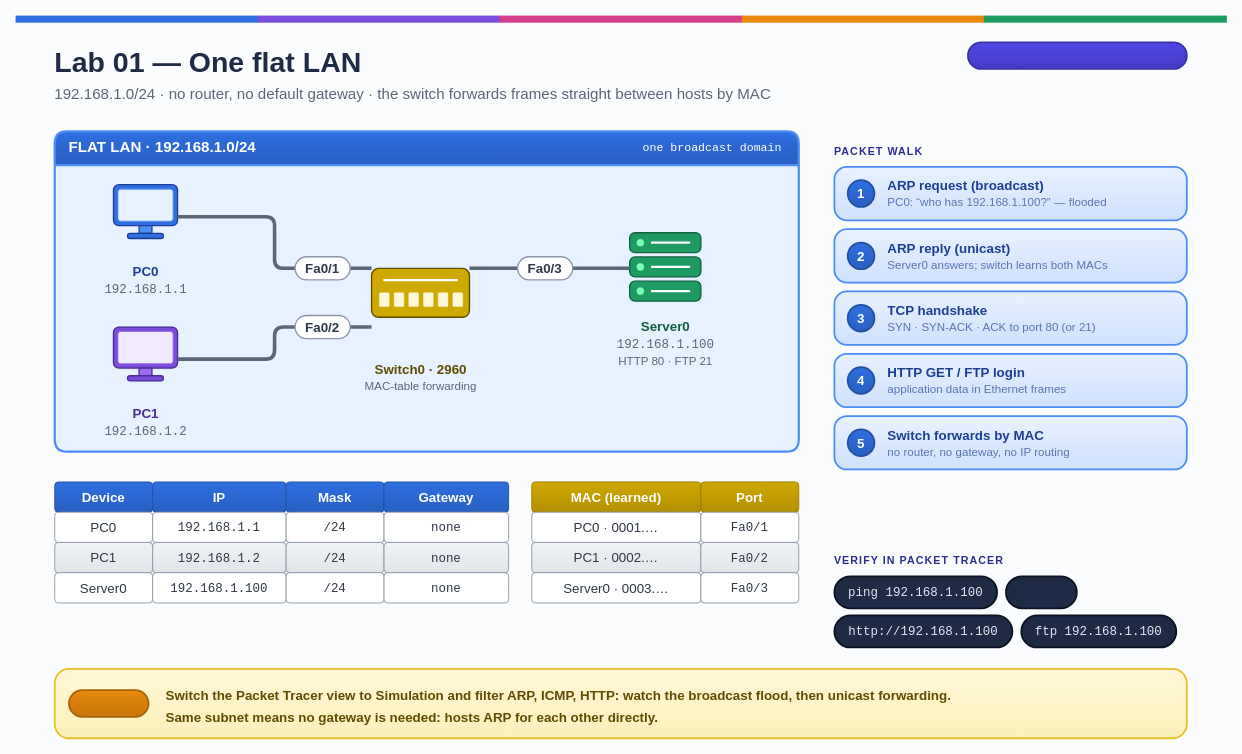
Some shapes in this 1242 by 754 pixel diagram are drawn without their labels. Here are the shapes that lost their labels. From the top down, the centre of each, then its label:
[1077,55]: LAB 01 · PACKET TRACER LAB
[1041,592]: arp -a
[108,703]: OBSERVE
